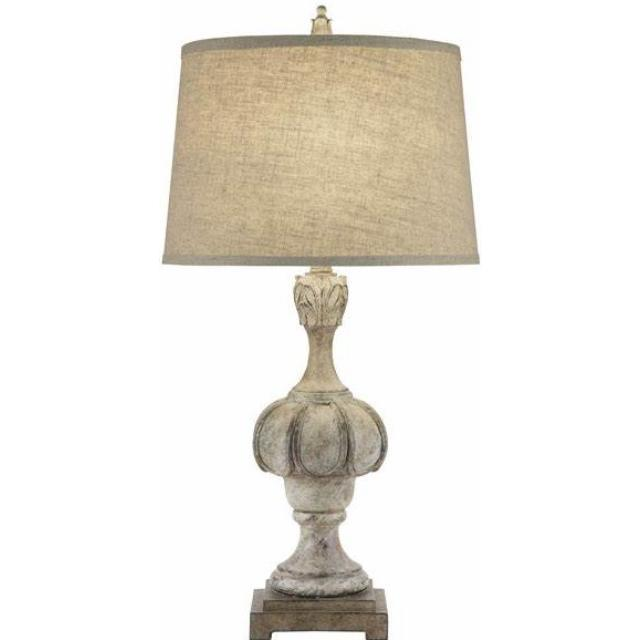lamp: (161, 16, 479, 640)
